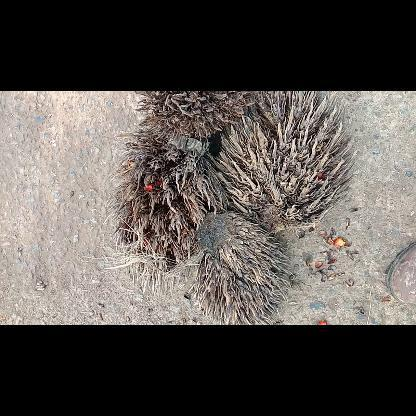Janjang kosong: (217, 90, 355, 232), (103, 132, 221, 294), (194, 212, 292, 324), (134, 91, 254, 141)
